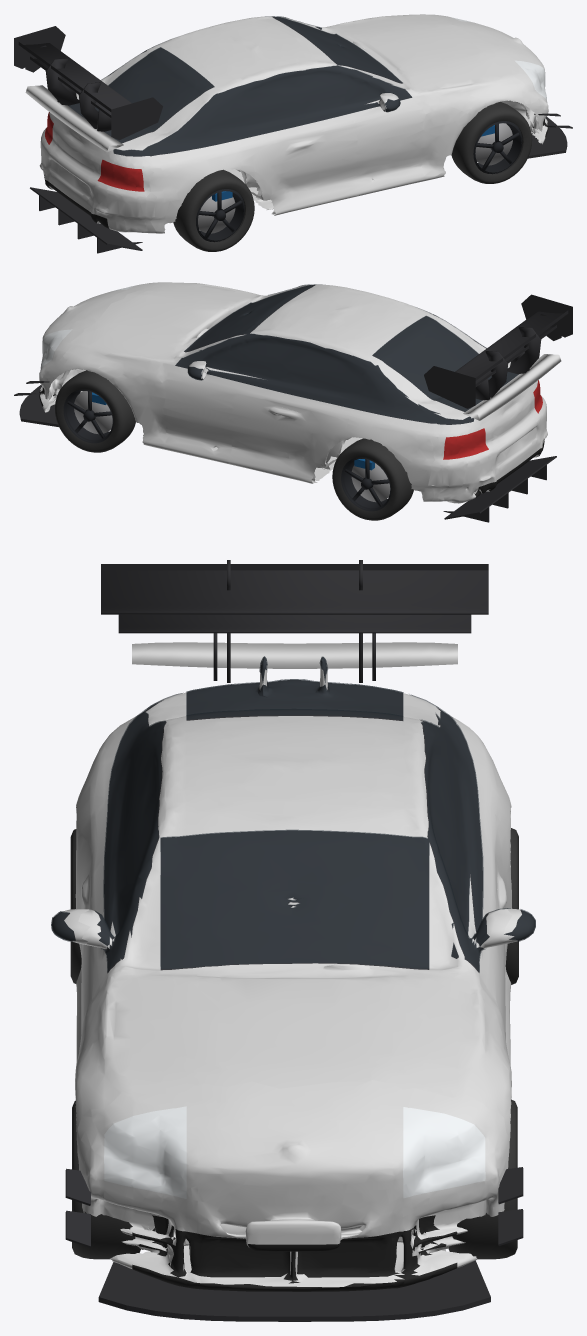
The model's file is bmw_m2.glb.
The picture shows the model from 3 angles, top to bottom: view 1: azimuth 30°, elevation 25°; view 2: azimuth 150°, elevation 25°; view 3: azimuth 270°, elevation 25°; orthographic projection. The views are drawn at different scales.
Parts seen in each view (by area): view 1: body, cabin, bumper_rear, wing_rear_up3, wheel_fr_spin, wheel_rr_spin, bumper_front, diffuser, wing_rear, wing_rear_up2, splitter_up, splitter; view 2: body, cabin, bumper_rear, wing_rear_up3, wheel_fl_spin, wheel_rl_spin, bumper_front, diffuser, wing_rear, wing_rear_up2, splitter_up, splitter; view 3: body, bumper_front, cabin, wing_rear_up3, splitter_up, splitter, wing_rear, wing_rear_up2, bumper_rear, canards, wheel_fl_spin, wheel_fr_spin (+2 smaller).
Part boxes in pixels (<box>): body: <box>76,14,530,233</box>; cabin: <box>68,16,412,156</box>; bumper_rear: <box>39,103,156,233</box>; wing_rear_up3: <box>14,26,162,140</box>; wheel_fr_spin: <box>451,101,532,183</box>; wheel_rr_spin: <box>173,169,254,251</box>; bumper_front: <box>431,14,548,144</box>; diffuser: <box>30,187,142,253</box>; wing_rear: <box>25,85,123,152</box>; wing_rear_up2: <box>25,45,111,131</box>; splitter_up: <box>528,117,567,158</box>; splitter: <box>530,123,560,152</box>; body: <box>58,282,510,501</box>; cabin: <box>175,284,518,424</box>; bumper_rear: <box>428,372,547,503</box>; wing_rear_up3: <box>424,294,572,408</box>; wheel_fl_spin: <box>55,370,135,452</box>; wheel_rl_spin: <box>332,438,413,520</box>; bumper_front: <box>39,282,154,412</box>; diffuser: <box>443,456,556,522</box>; wing_rear: <box>463,354,561,420</box>; wing_rear_up2: <box>475,314,561,400</box>; splitter_up: <box>19,385,58,426</box>; splitter: <box>26,391,56,420</box>; body: <box>75,698,512,1141</box>; bumper_front: <box>76,1080,509,1291</box>; cabin: <box>51,656,535,972</box>; wing_rear_up3: <box>101,560,488,682</box>; splitter_up: <box>98,1260,490,1321</box>; splitter: <box>105,1267,483,1311</box>; wing_rear: <box>132,642,457,668</box>; wing_rear_up2: <box>118,614,471,680</box>; bumper_rear: <box>112,657,473,732</box>; canards: <box>65,1167,523,1247</box>; wheel_fl_spin: <box>448,1099,517,1259</box>; wheel_fr_spin: <box>72,1100,140,1259</box>.
Size of the model in its own units: 4.69 by 1.57 by 2.08.
